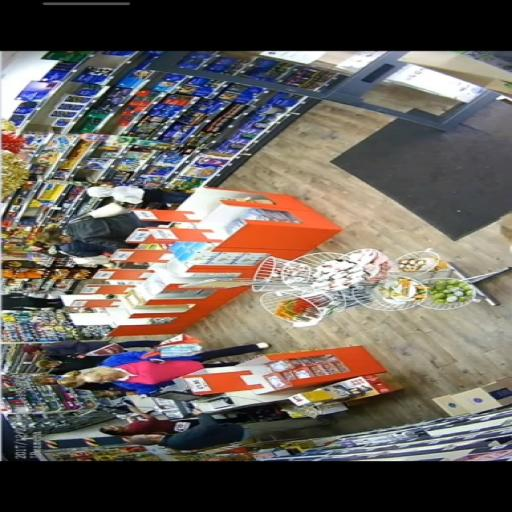workers: (56, 348, 272, 396), (22, 339, 272, 365), (97, 397, 200, 438), (57, 202, 142, 250), (127, 418, 247, 452), (24, 236, 114, 269), (2, 290, 66, 312)
